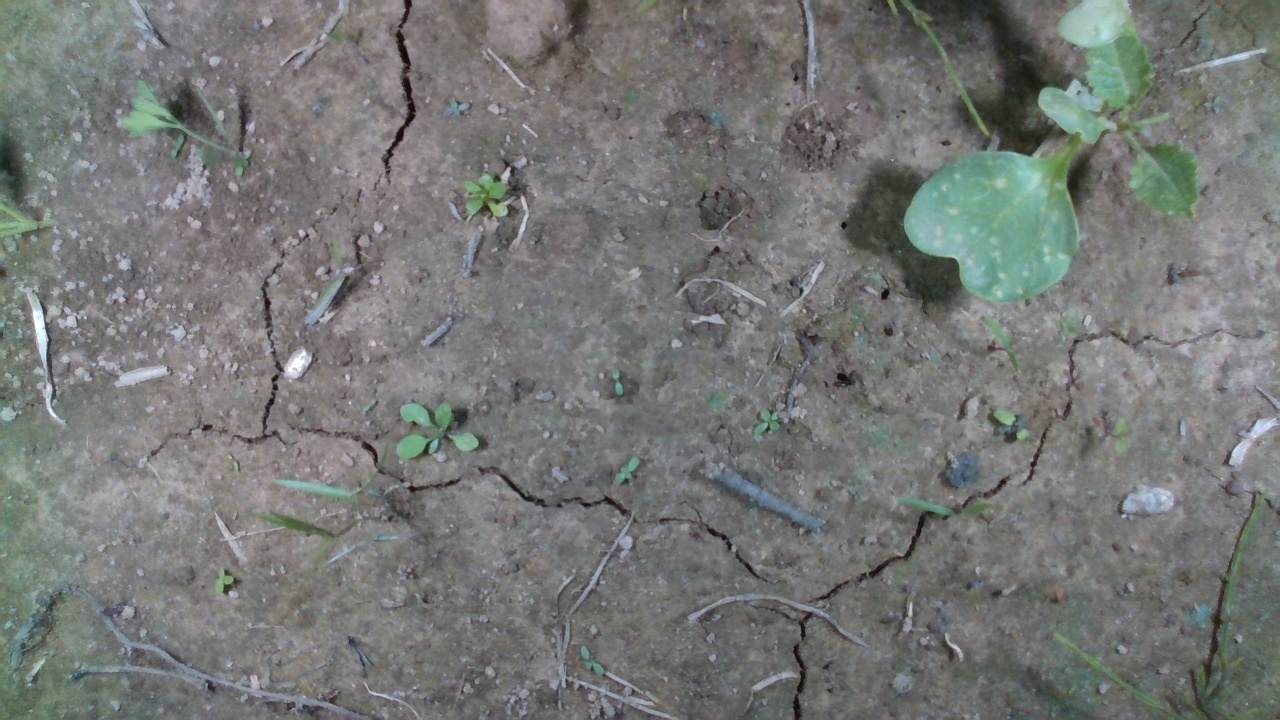weed: (743, 405, 794, 436)
